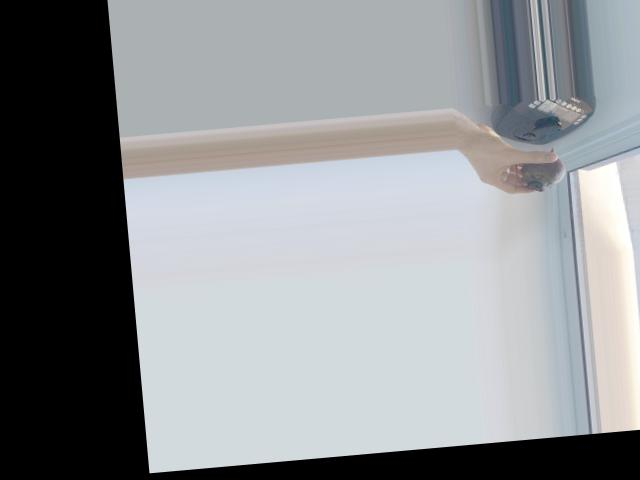beet: (515, 145, 567, 193)
